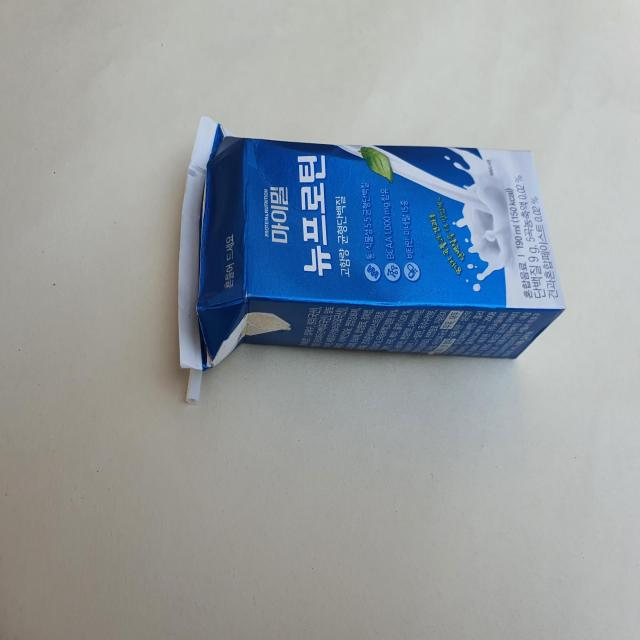paperpack: (178, 116, 566, 402)
